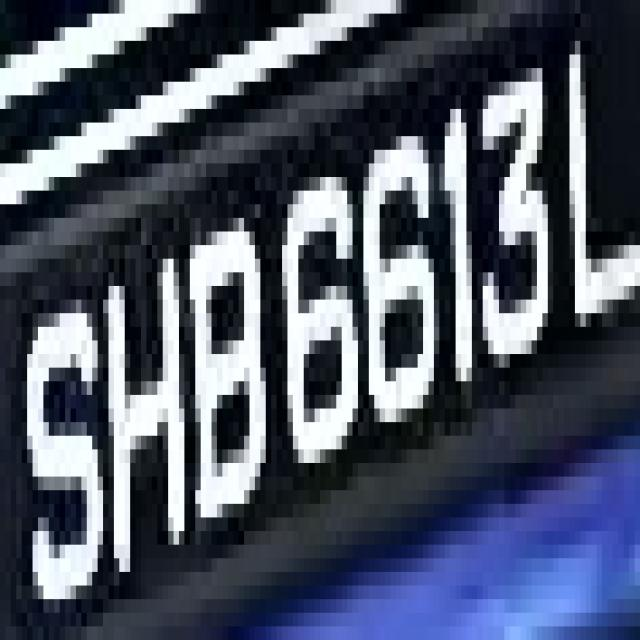1: (429, 68, 488, 477)
3: (466, 14, 558, 368)
6: (271, 150, 380, 477), (352, 82, 434, 463)
B: (179, 204, 277, 558)
H: (92, 204, 190, 599)
L: (553, 14, 635, 354)
S: (11, 272, 108, 586)
